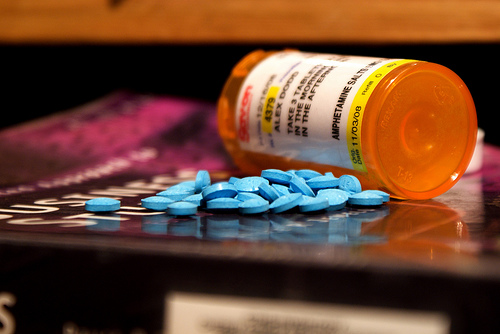pill bottle: (215, 46, 477, 203)
